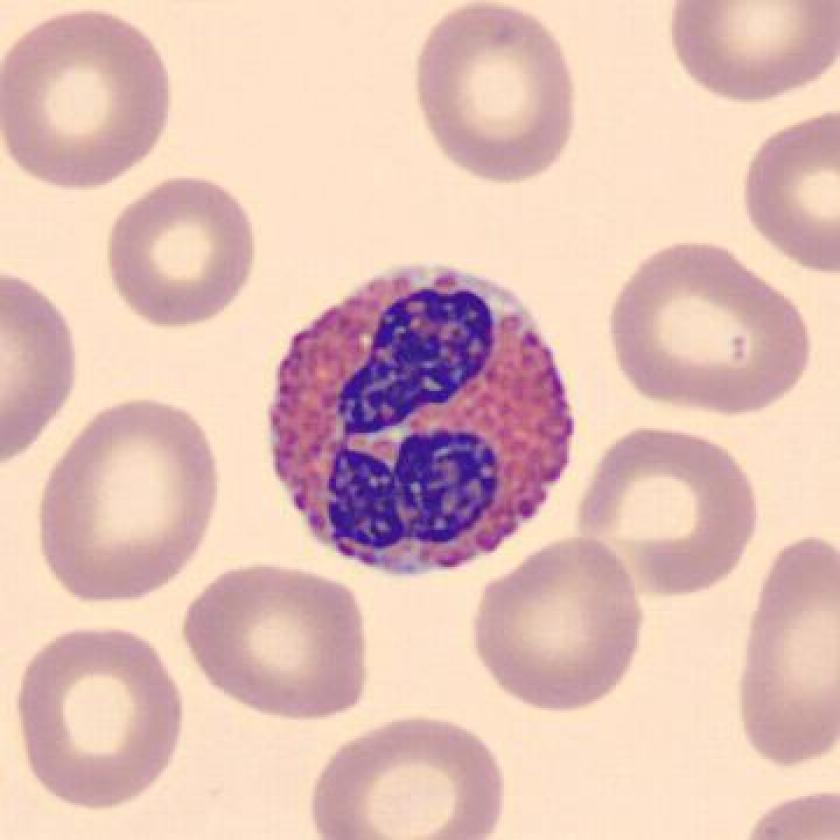eosinophil: (253, 251, 589, 586)
